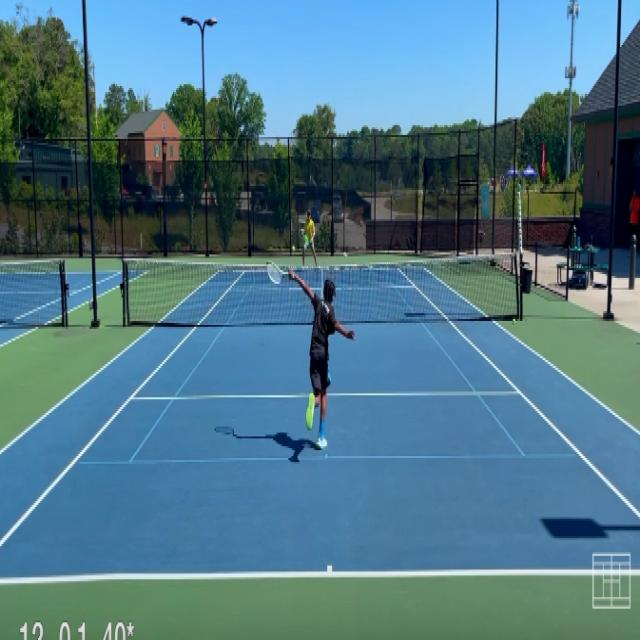ball: (291, 244, 296, 252)
